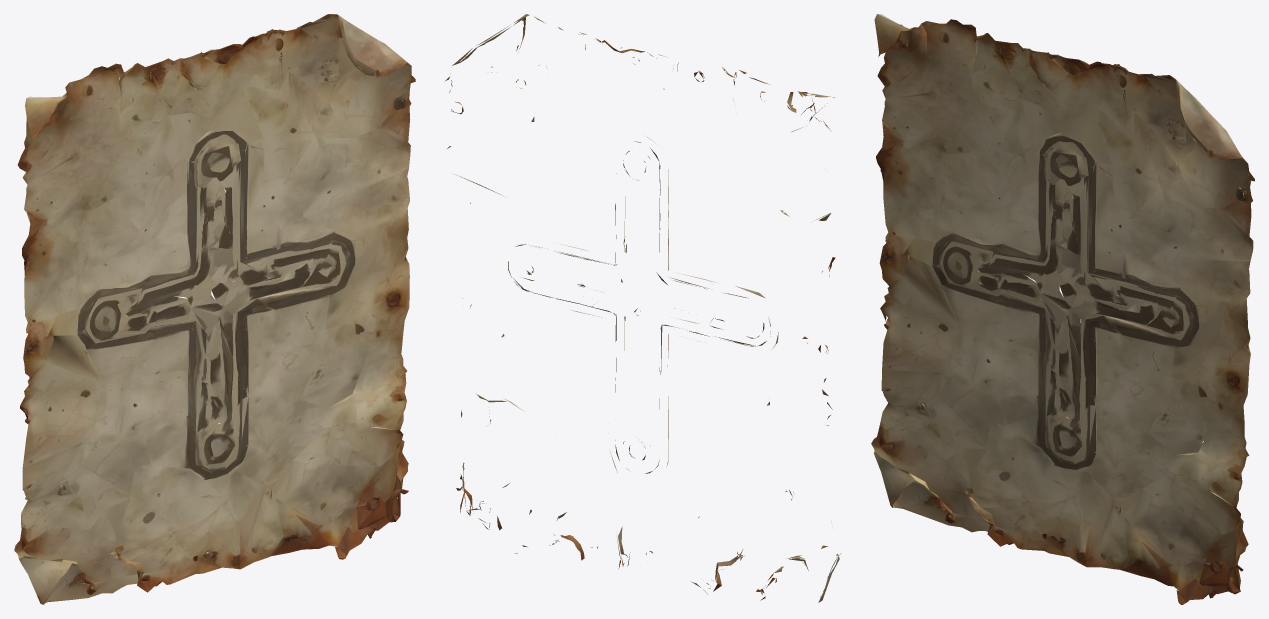
File: poster_2_idle.glb
3 views of the same model, side by side, from view 1: azimuth 30°, elevation 25°; view 2: azimuth 150°, elevation 25°; view 3: azimuth 330°, elevation 25° (orthographic). The views are drawn at different scales.
Visible parts, largest first — view 1: tripo_node_f1dec8d8-2404-4197-add8-c25eab82d9e6; view 2: tripo_node_f1dec8d8-2404-4197-add8-c25eab82d9e6; view 3: tripo_node_f1dec8d8-2404-4197-add8-c25eab82d9e6.
Part boxes in pixels (left/top/right/bottom): tripo_node_f1dec8d8-2404-4197-add8-c25eab82d9e6: left=14, top=14, right=415, bottom=604; tripo_node_f1dec8d8-2404-4197-add8-c25eab82d9e6: left=445, top=14, right=841, bottom=602; tripo_node_f1dec8d8-2404-4197-add8-c25eab82d9e6: left=871, top=14, right=1254, bottom=604.
Bounding box in the file's own units: 0.4585 × 0.6001 × 0.0208.
1 material, 1 textured.
